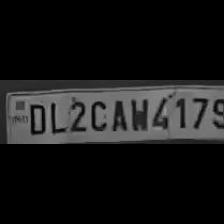1: (171, 94, 189, 130)
2: (65, 97, 87, 133)
4: (149, 94, 171, 130)
7: (187, 94, 207, 130)
9: (207, 94, 223, 130)
A: (108, 96, 128, 132)
C: (88, 96, 108, 132)
D: (25, 100, 47, 136)
L: (46, 98, 66, 134)
W: (127, 94, 149, 132)
